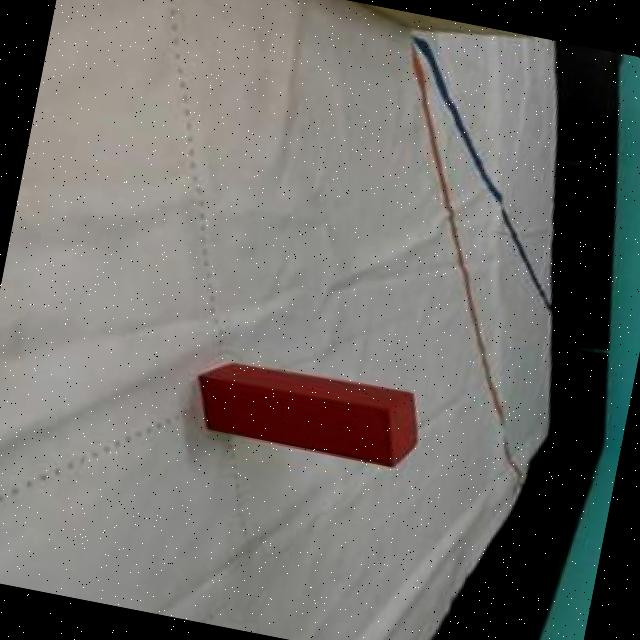redbox: (192, 354, 428, 470)
